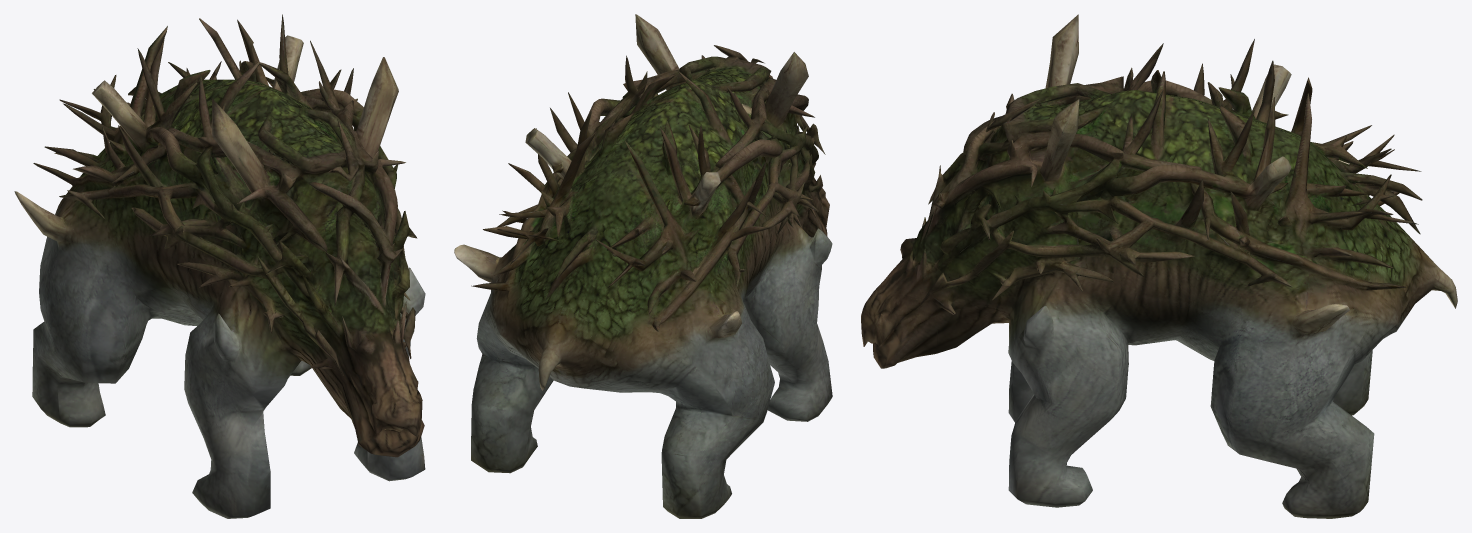
The model's file is mesh_briarback_a.glb.
3 views of the same model, side by side, from view 1: azimuth 30°, elevation 25°; view 2: azimuth 150°, elevation 25°; view 3: azimuth 270°, elevation 25° (orthographic). The views are drawn at different scales.
Visible parts, largest first — view 1: Mesh_0; view 2: Mesh_0; view 3: Mesh_0.
Part boxes in pixels (<box>): Mesh_0: <box>14,14,425,518</box>; Mesh_0: <box>454,14,832,518</box>; Mesh_0: <box>861,14,1457,518</box>.
Size of the model in its own units: 1.12 by 1.42 by 1.9.
Materials: 1 (1 with a texture image).
